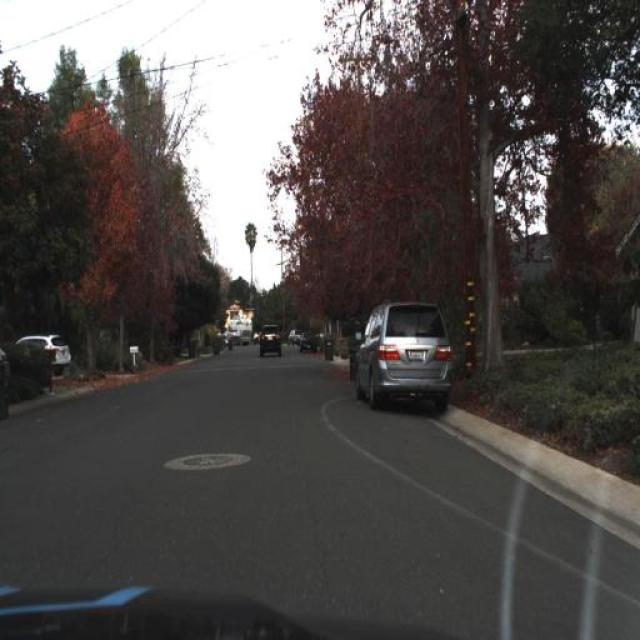car: (354, 297, 450, 413), (10, 334, 71, 382), (36, 328, 74, 372), (253, 320, 286, 360), (298, 330, 318, 356)
